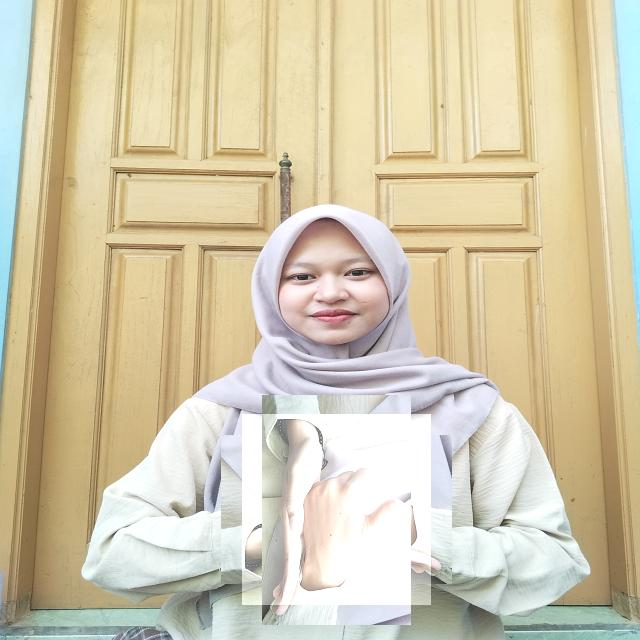cantik: (242, 414, 431, 605)
